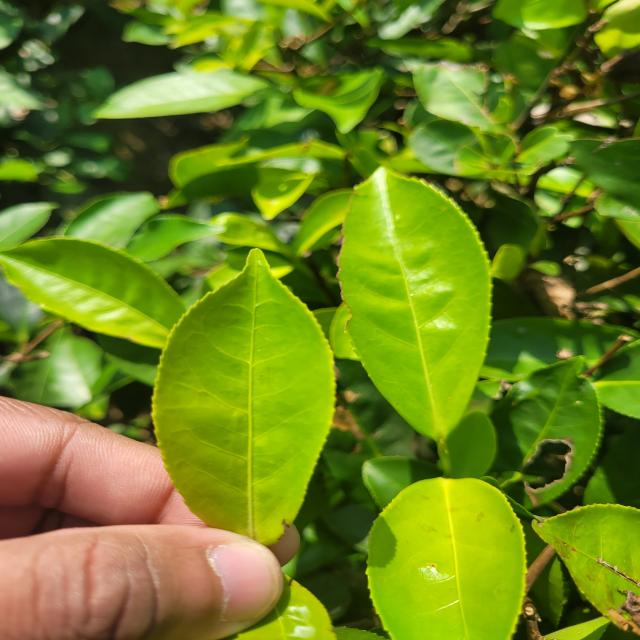Catagory A(1-2 days): (134, 238, 343, 552)
